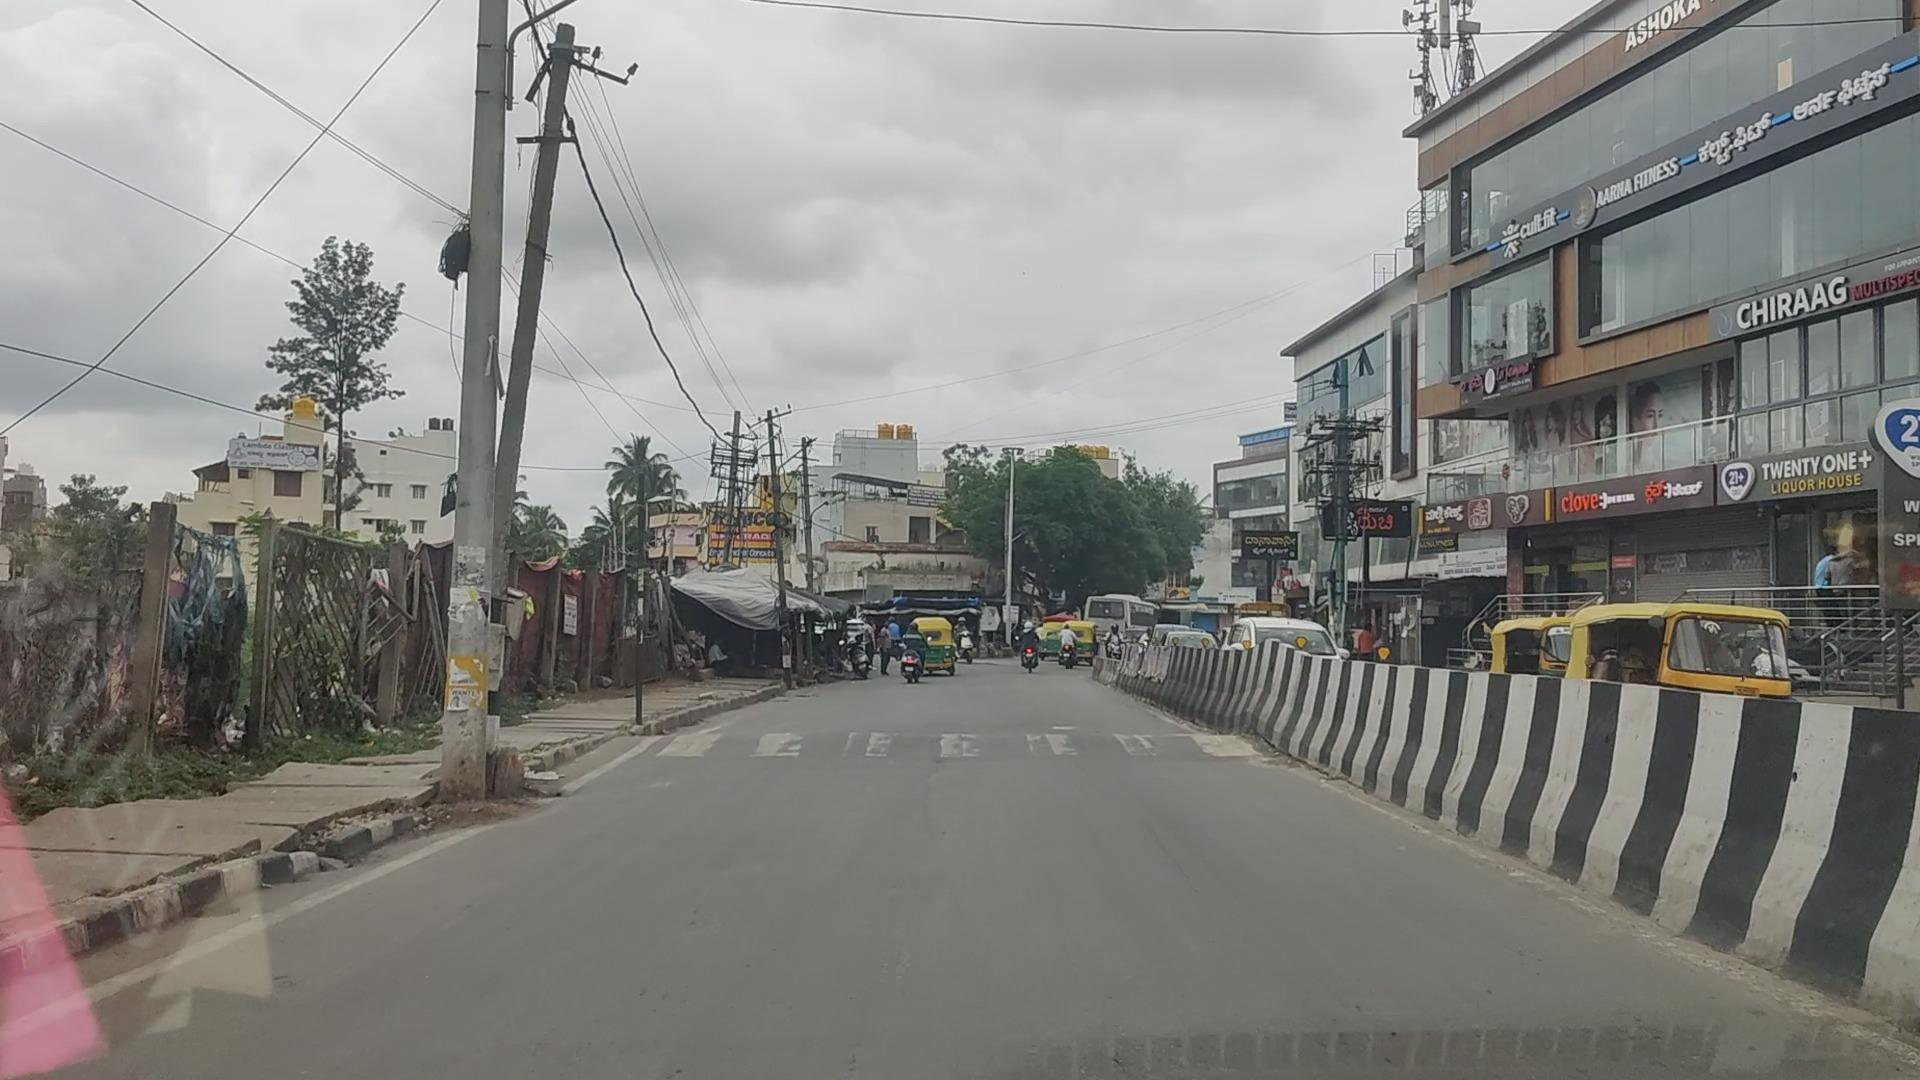SpeedBump: (662, 716, 1262, 773)
